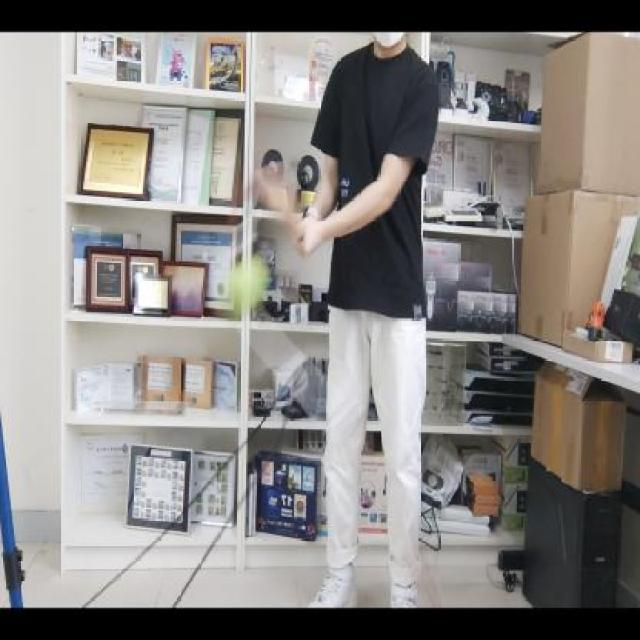baseball: (228, 256, 269, 322)
